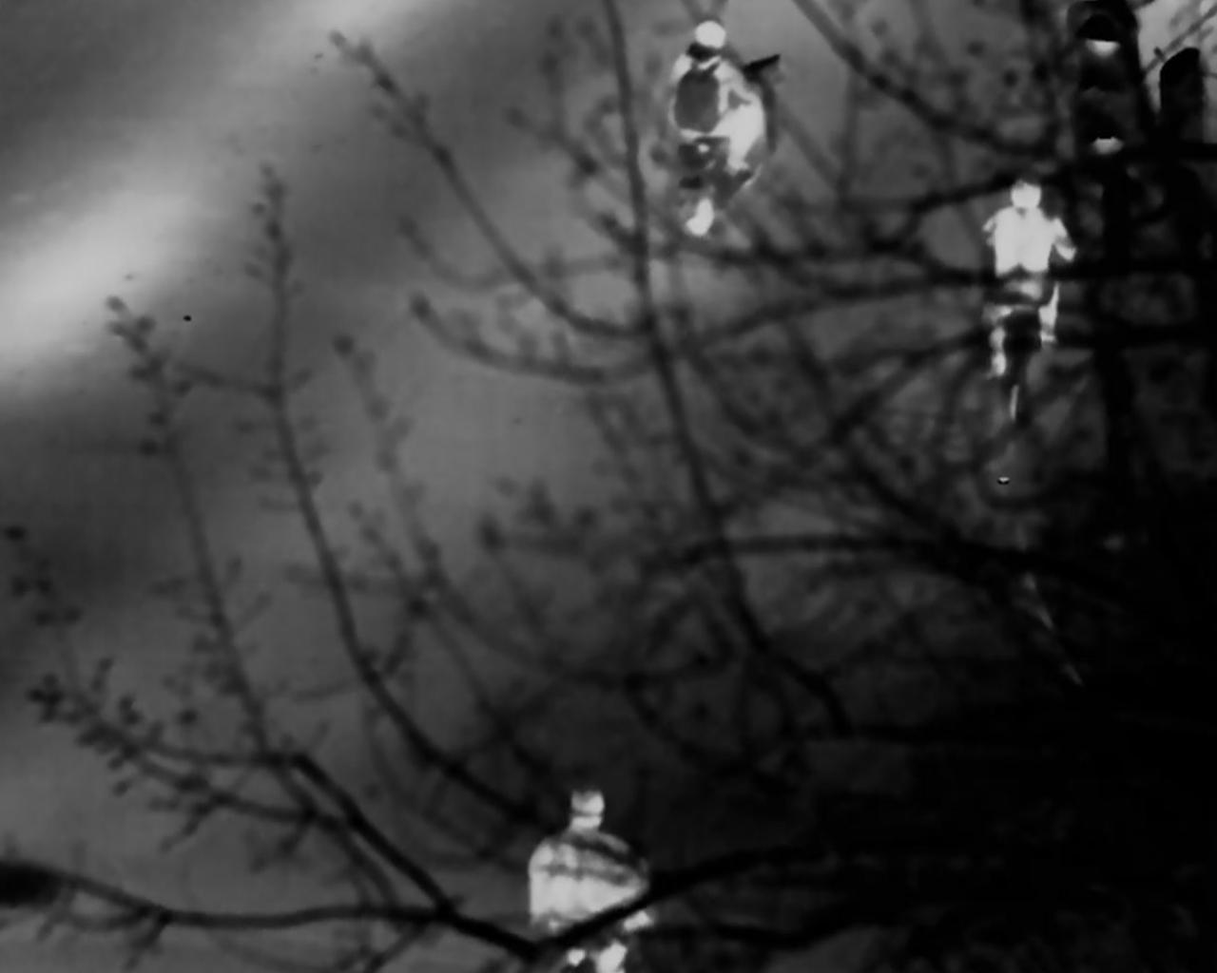person: (531, 781, 657, 973), (973, 179, 1083, 388), (667, 19, 762, 240)
